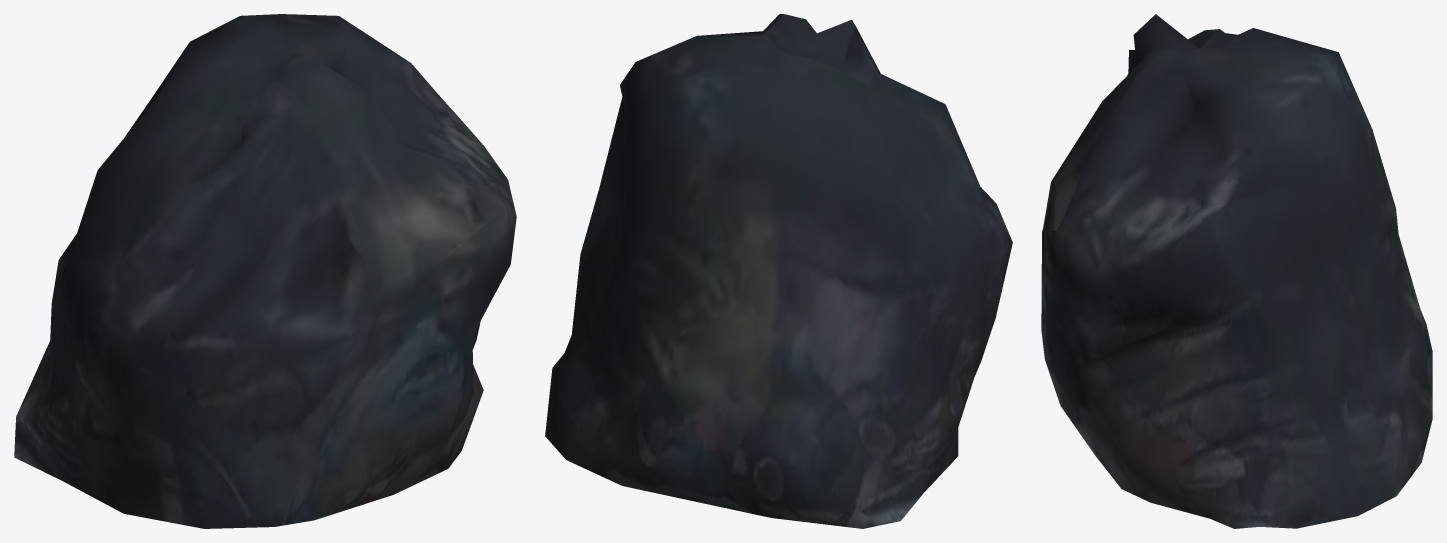
The model's file is binbag_c.glb.
The picture shows the model from 3 angles, left to right: view 1: azimuth 30°, elevation 25°; view 2: azimuth 150°, elevation 25°; view 3: azimuth 270°, elevation 25°; orthographic projection. The views are drawn at different scales.
Visible parts, largest first — view 1: Binbag_c; view 2: Binbag_c; view 3: Binbag_c.
Part boxes in pixels (left/top/right/bottom): Binbag_c: left=14, top=14, right=516, bottom=528; Binbag_c: left=545, top=14, right=1012, bottom=528; Binbag_c: left=1041, top=14, right=1432, bottom=528.
Size of the model in its own units: 0.7775 by 0.731 by 0.6481.
Materials: 1 (1 with a texture image).
